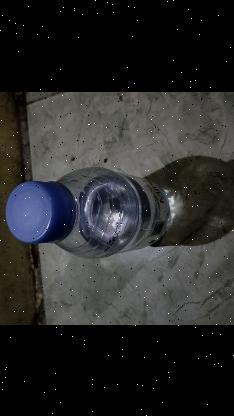Plastic Bottle: (4, 166, 172, 258)
